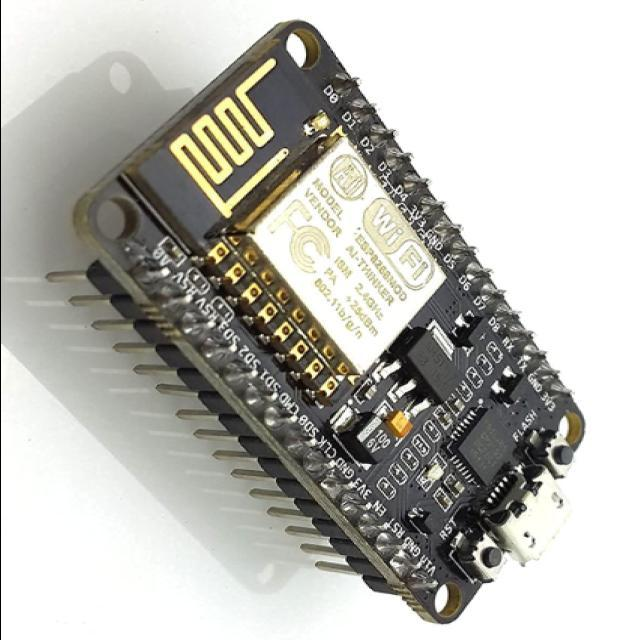Esp8266: (77, 21, 585, 624)
